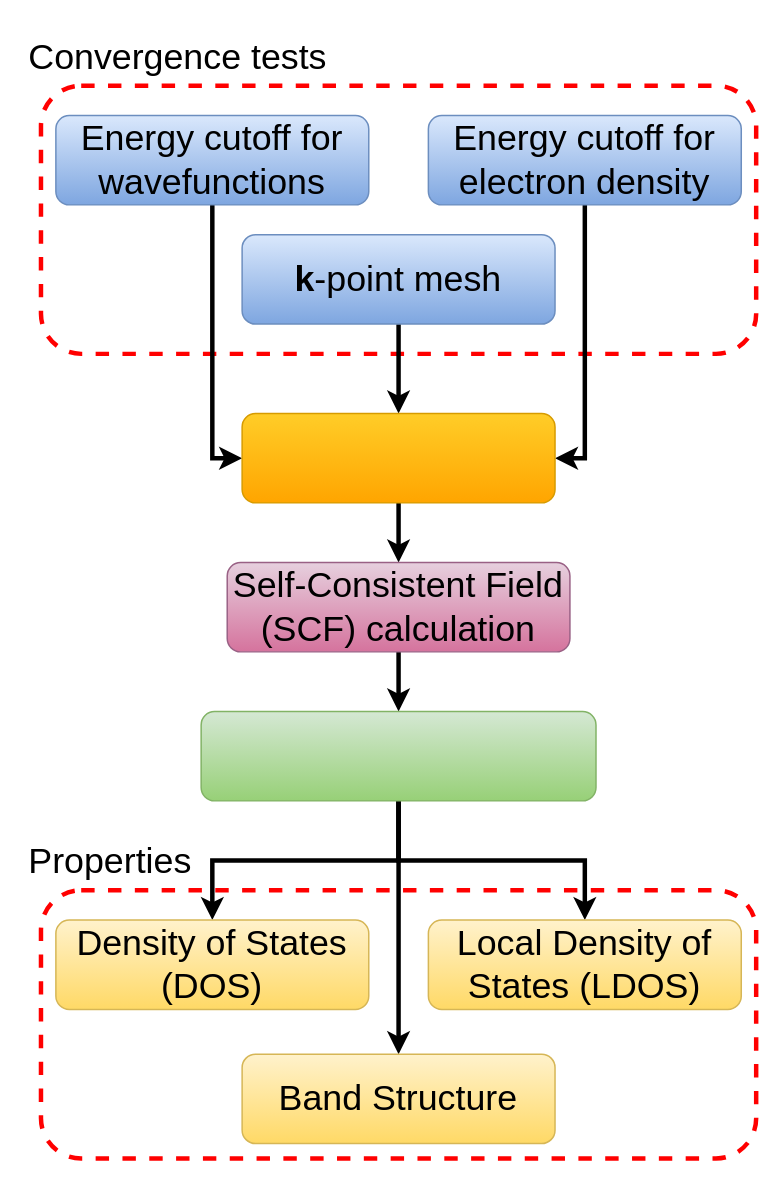
Image size: 784x1186. Some labels were removed from this diagram. Here are the shapes that lost their labels. From the top down, the centre of each, then its label:
point (398, 457): Relaxation
point (398, 755): Non-Self-Consistent Field (NSCF) calculation
